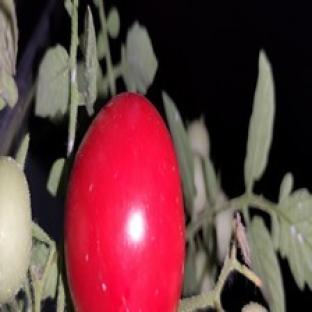Tomato: (66, 92, 185, 311), (0, 156, 32, 306)
